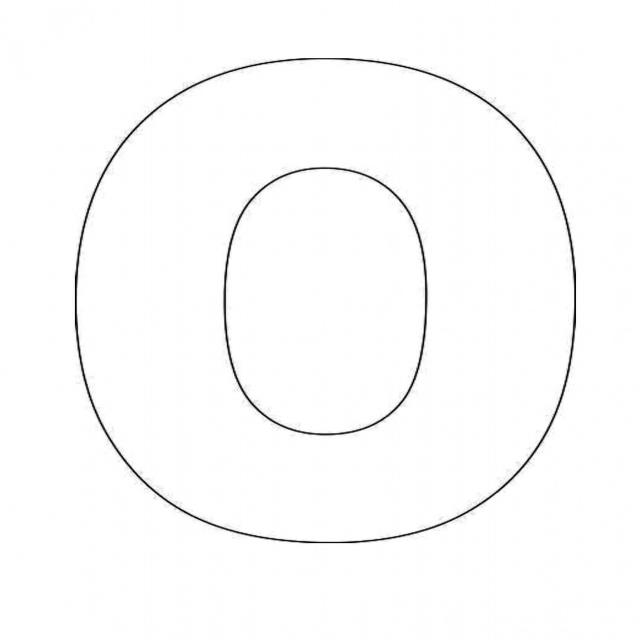O: (18, 35, 604, 581)
